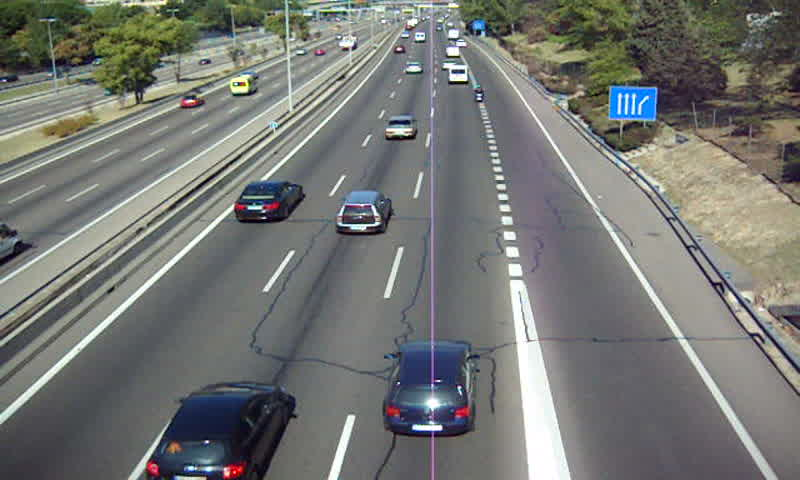car: (144, 381, 286, 480), (386, 342, 472, 436), (231, 182, 300, 223), (333, 191, 390, 233), (382, 116, 415, 142), (405, 60, 422, 74)
motorcycle: (473, 84, 486, 102)
van: (448, 65, 468, 84), (447, 47, 462, 58)
